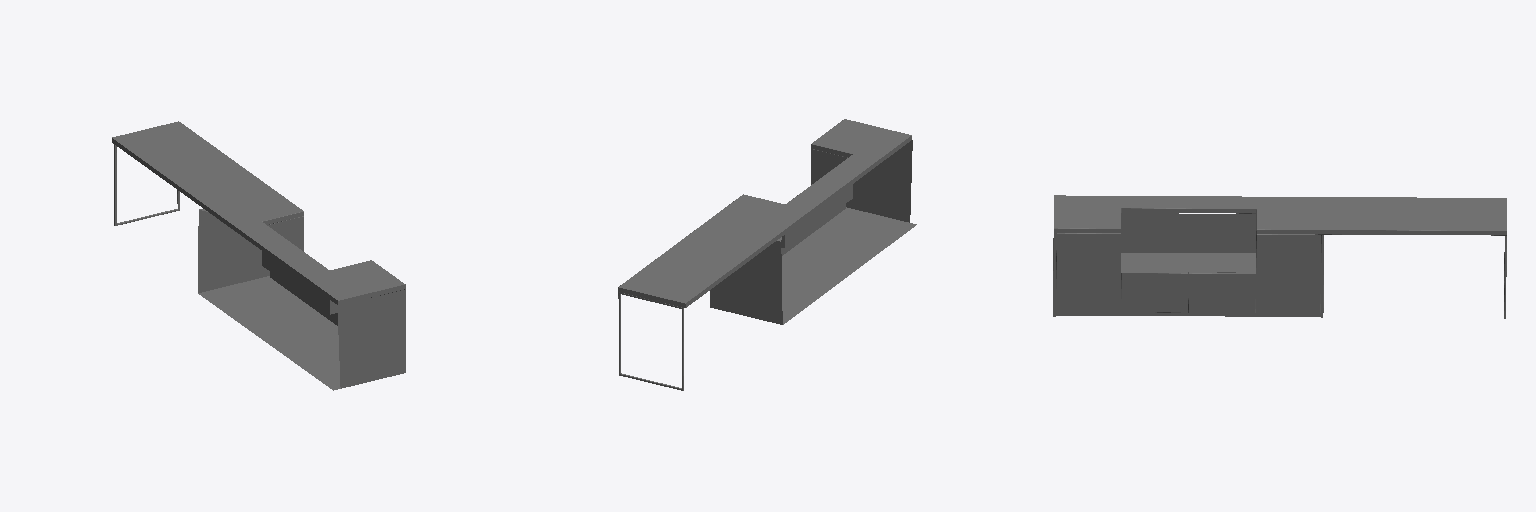
File: escritorio.obj
The picture shows the model from 3 angles: view 1: azimuth 30°, elevation 25°; view 2: azimuth 150°, elevation 25°; view 3: azimuth 270°, elevation 25°; orthographic projection.
Parts seen in each view (by area): view 1: Mdf, Medis; view 2: Medis, Mdf, Stalo_koja; view 3: Medis, Mdf.
Boxes of the visible parts, x1,y1,x2,y2 form: Mdf: [198, 209, 405, 390]; Medis: [112, 121, 405, 314]; Medis: [618, 119, 911, 307]; Mdf: [710, 140, 916, 324]; Stalo_koja: [618, 292, 683, 390]; Medis: [1054, 195, 1506, 272]; Mdf: [1053, 233, 1323, 317].
Bounding box in the file's own units: 19.71 × 23.42 × 106.